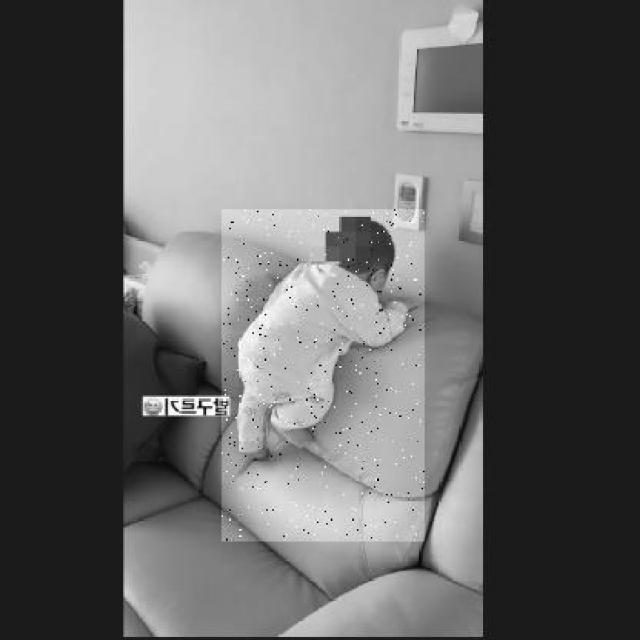child: (221, 210, 424, 542)
